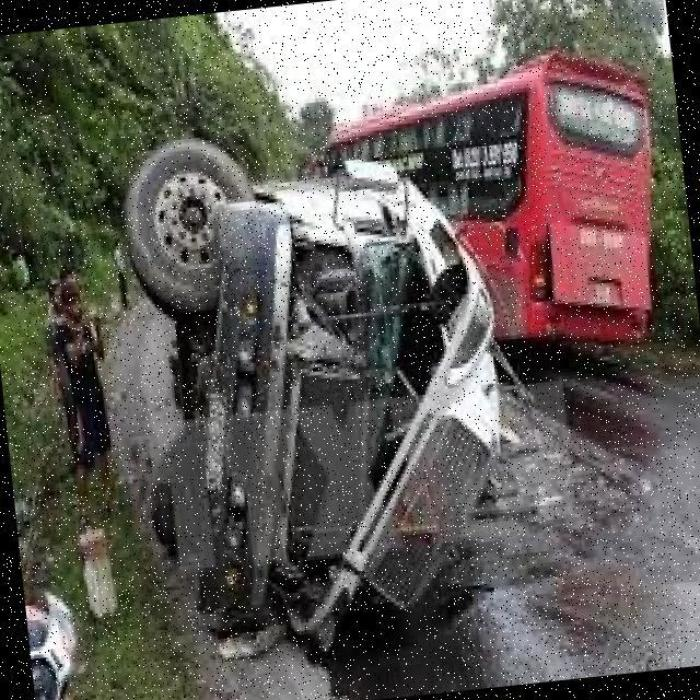Accident: (96, 112, 560, 686)
